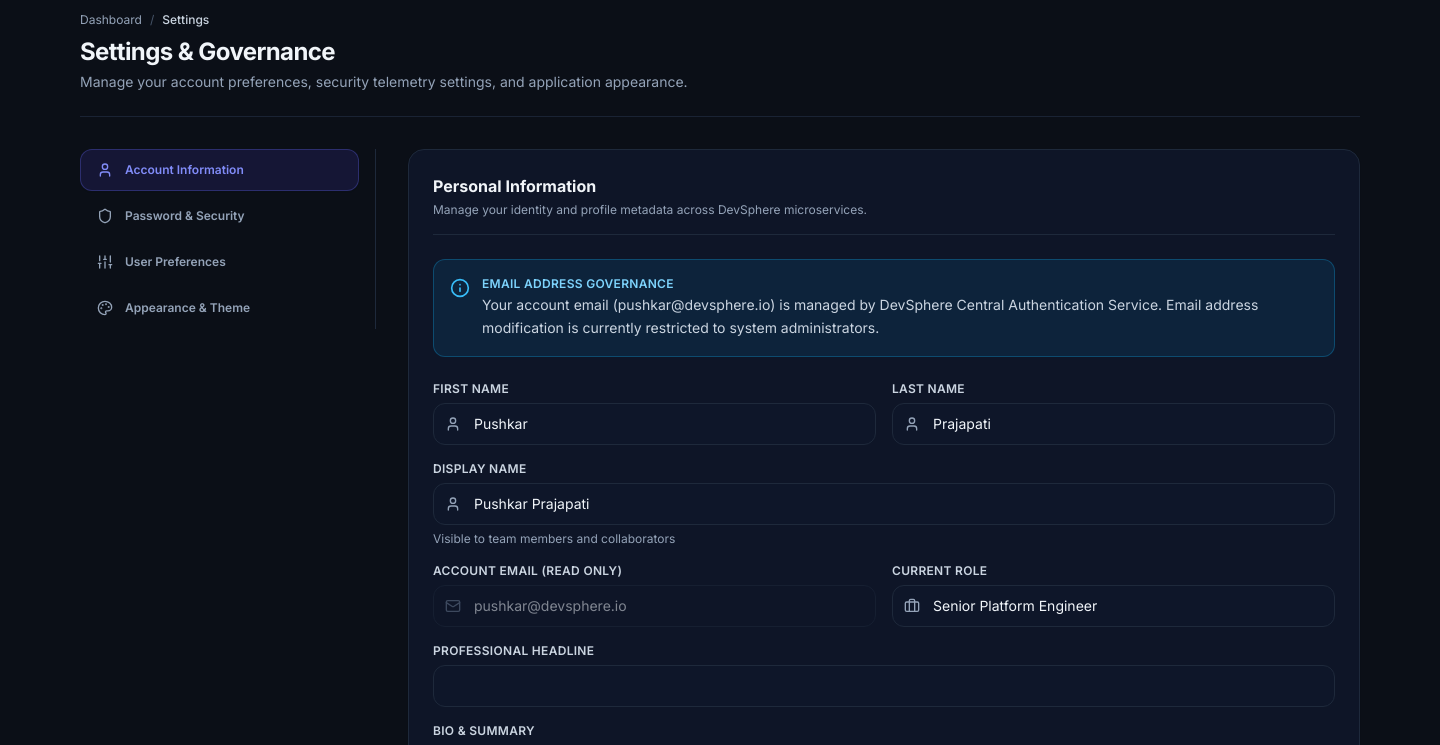
Scenario: SettingsPage › 18. Preferences render with default and configurable options
Click the button "User Preferences" at (220, 262), box top-left (80, 241), bottom-right (359, 283)
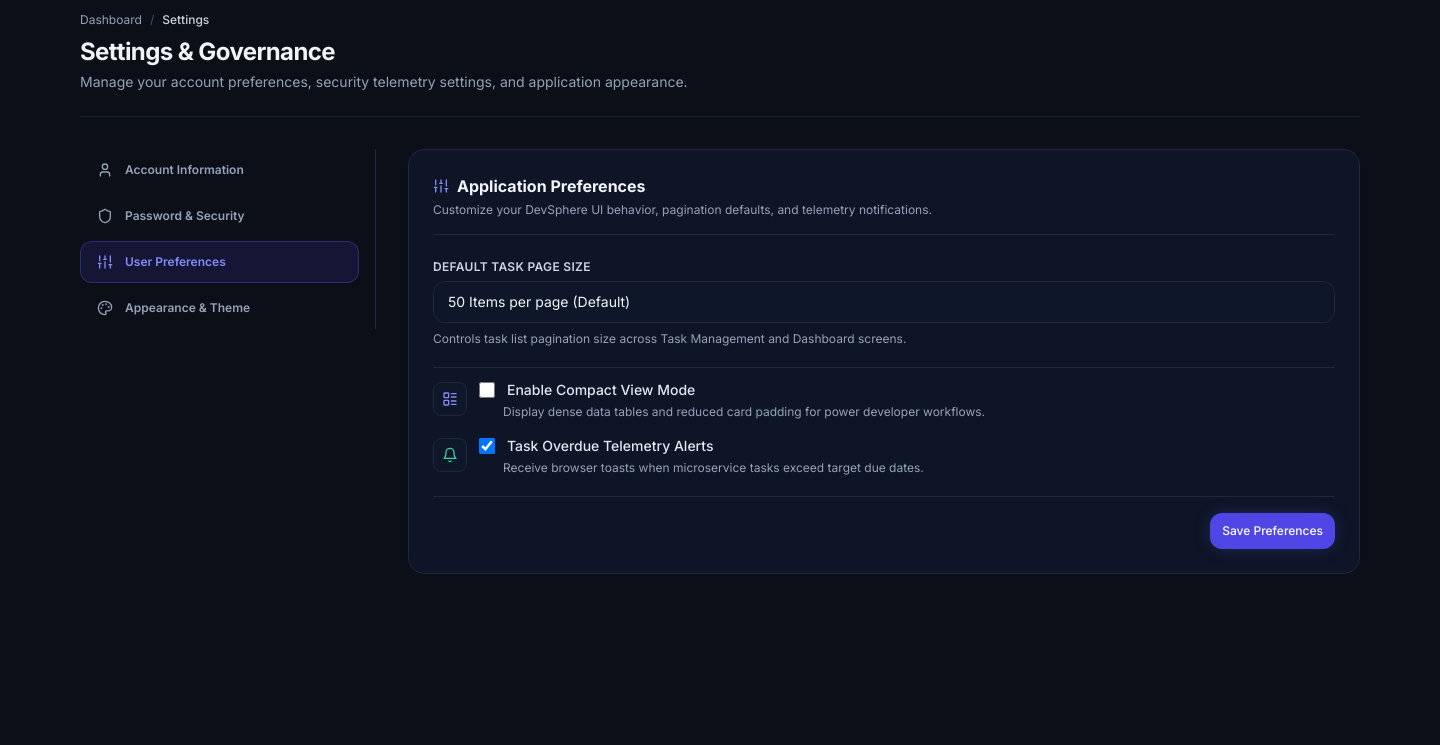
Check: the heading "Application Preferences" is shown, box top-left (433, 176), bottom-right (646, 196)
Check: the text "Default Task Page Size" is shown, box top-left (433, 259), bottom-right (591, 274)
Check: the text "Enable Compact View Mode" is shown, box top-left (507, 381), bottom-right (695, 398)
